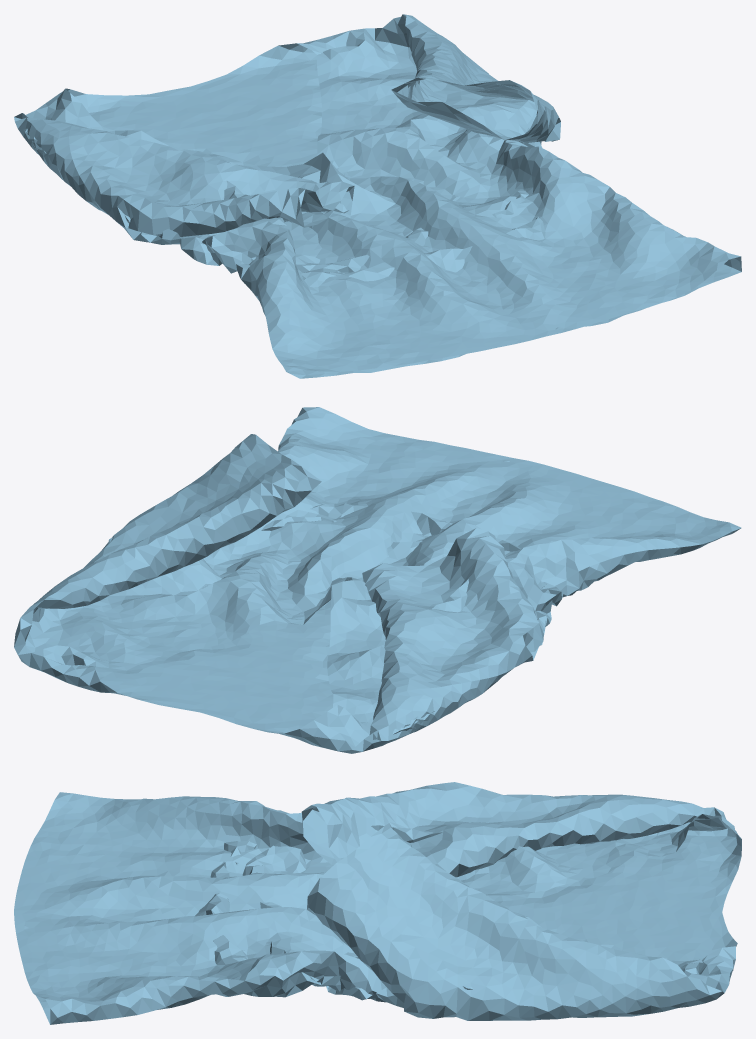
File: frame_17.glb
3 views of the same model, one above another, from view 1: azimuth 30°, elevation 25°; view 2: azimuth 150°, elevation 25°; view 3: azimuth 270°, elevation 25° (orthographic). The views are drawn at different scales.
Visible parts, largest first — view 1: frame_17.obj; view 2: frame_17.obj; view 3: frame_17.obj.
Part boxes in pixels (x1,y1,x2,y2): frame_17.obj: (14,14,741,378); frame_17.obj: (14,407,741,753); frame_17.obj: (14,782,741,1024).
Size of the model in its own units: 1.16 by 0.2985 by 1.58.
